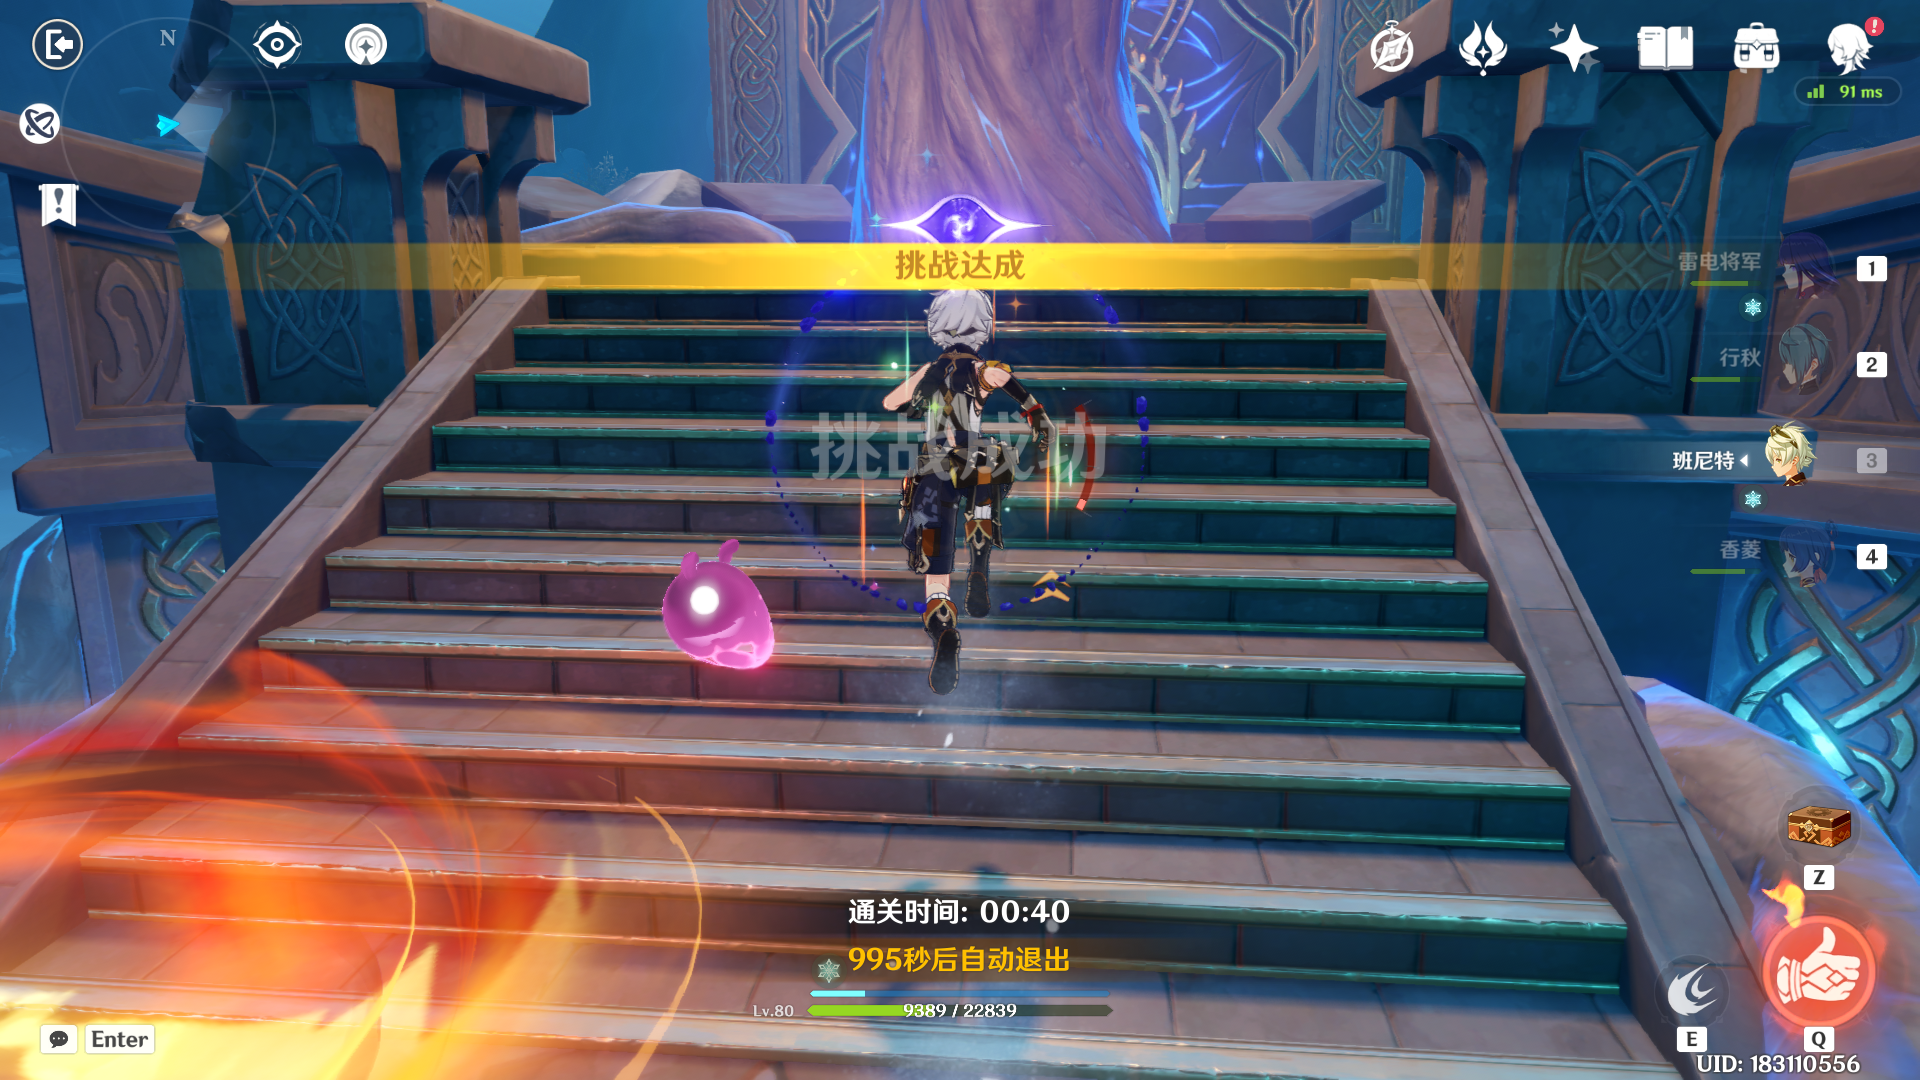character: (812, 266, 1079, 705)
